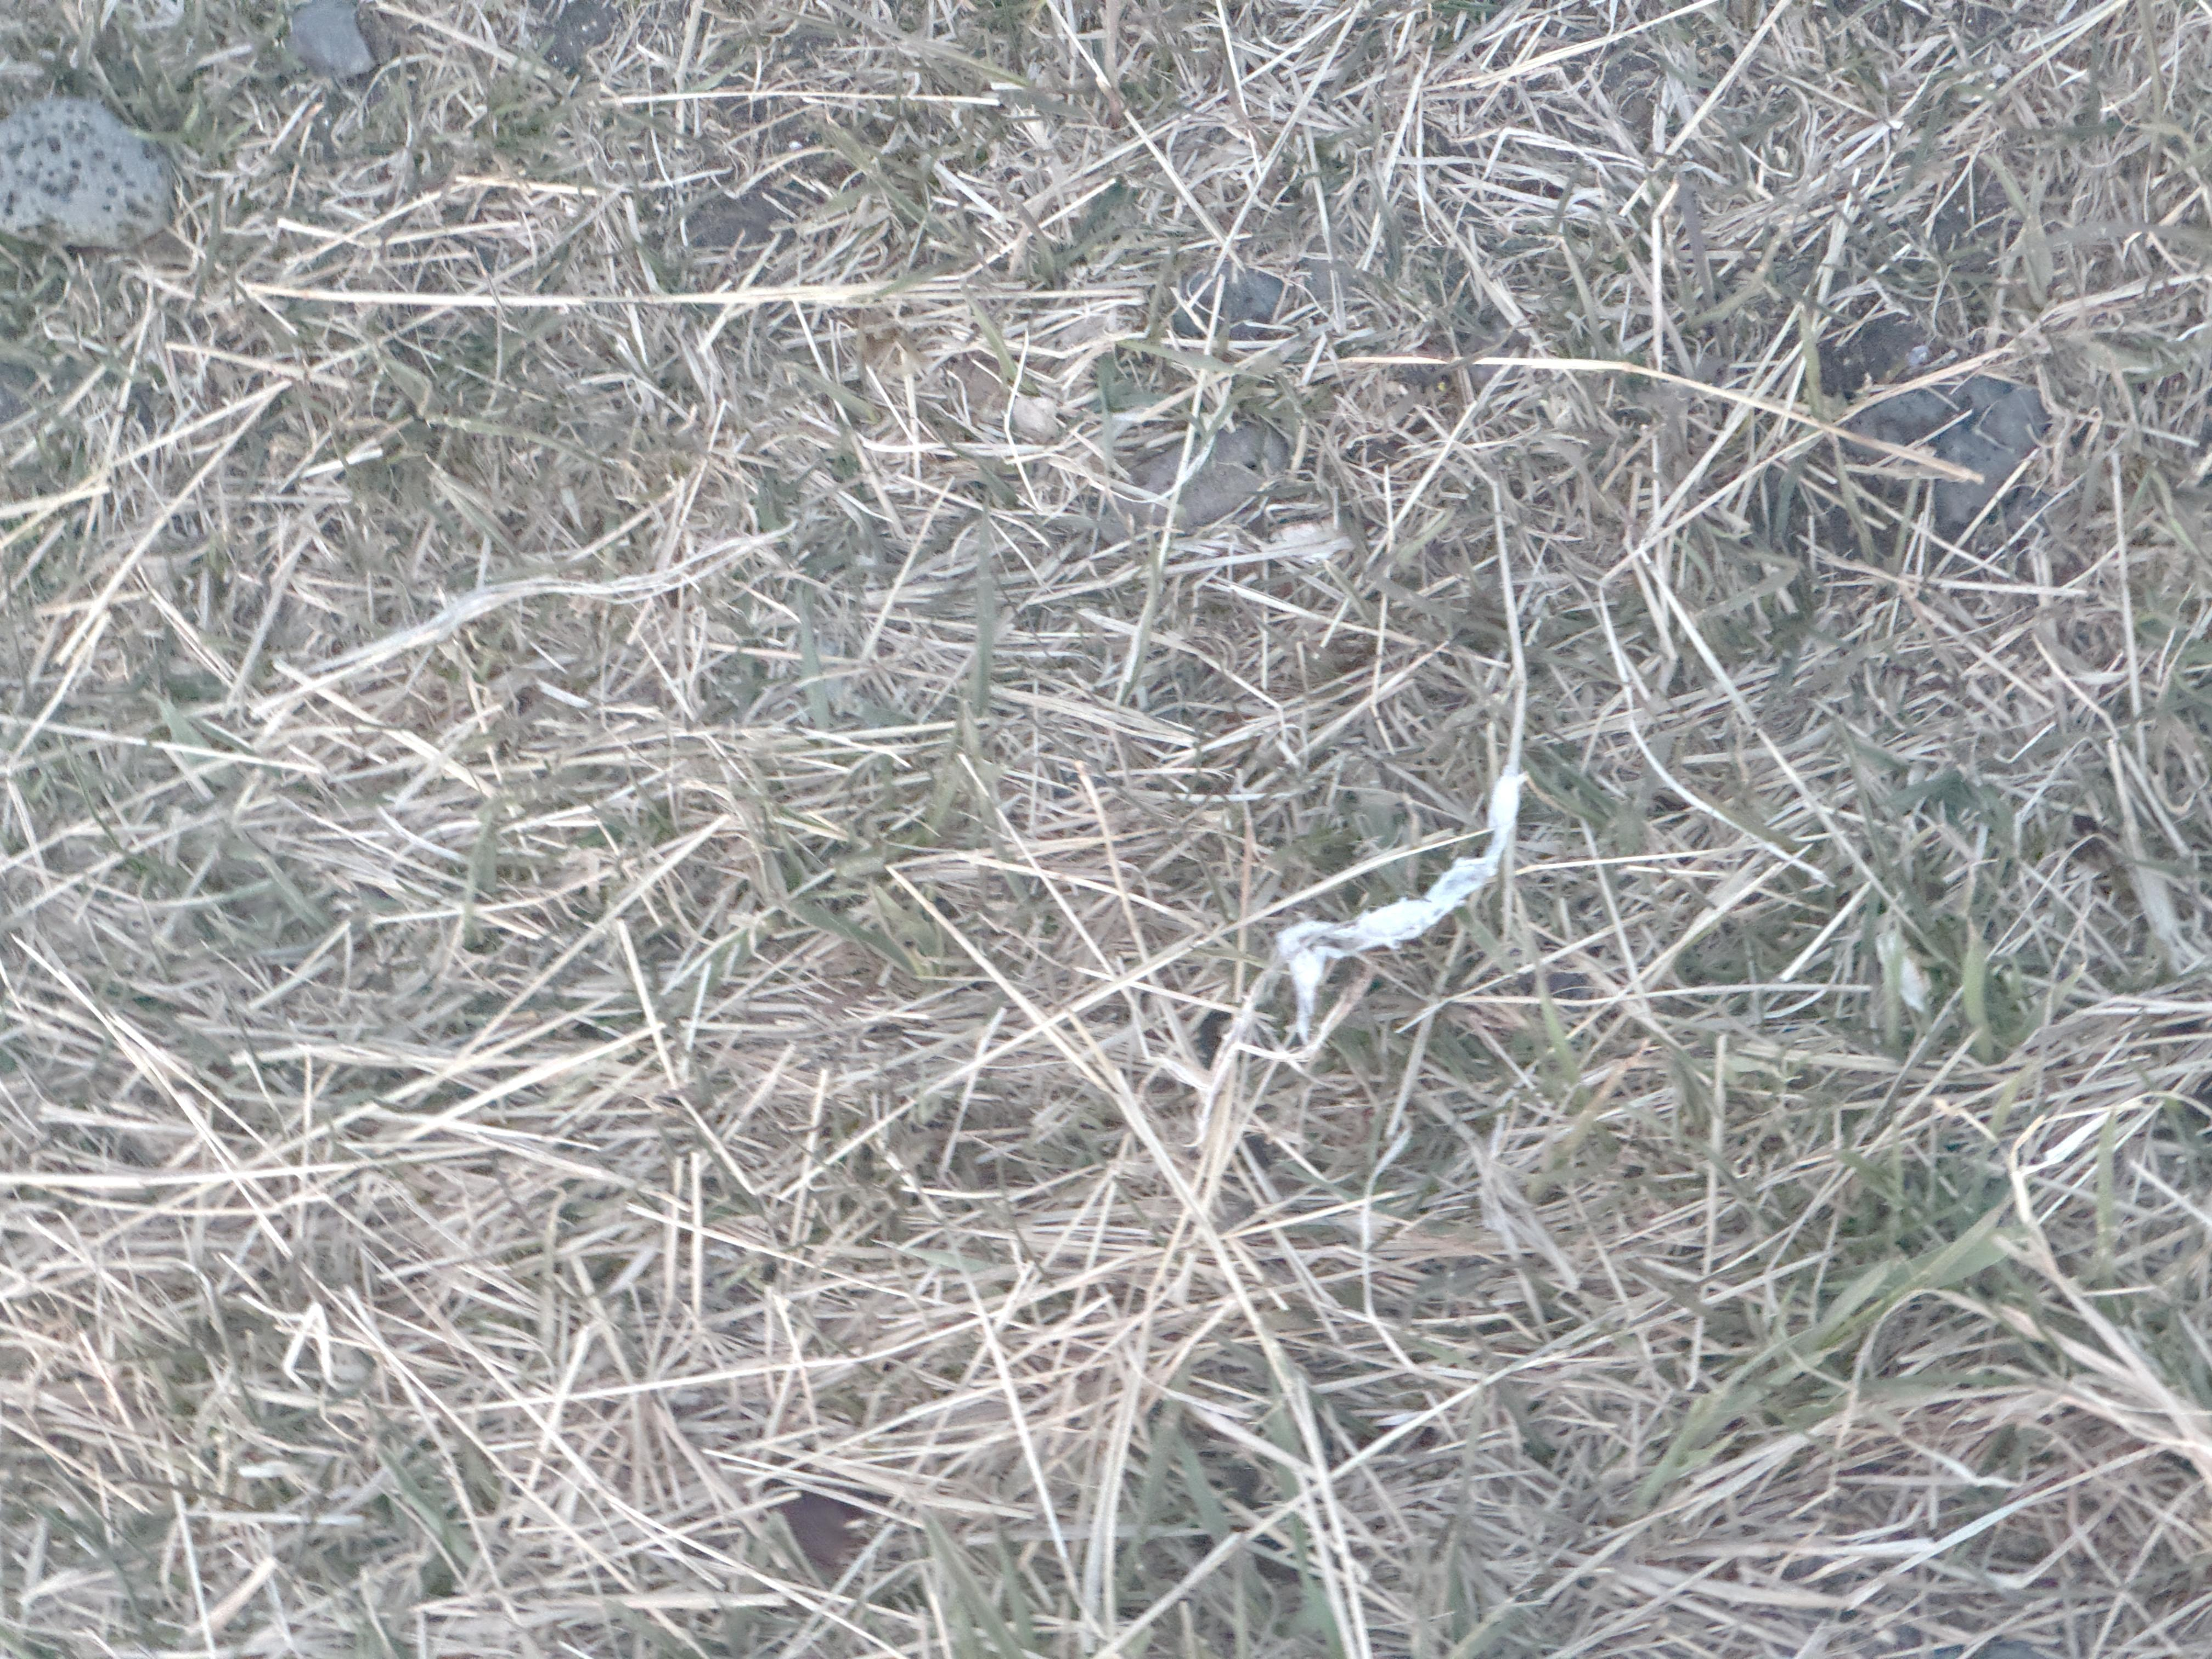trash: (1274, 769, 1525, 1041)
